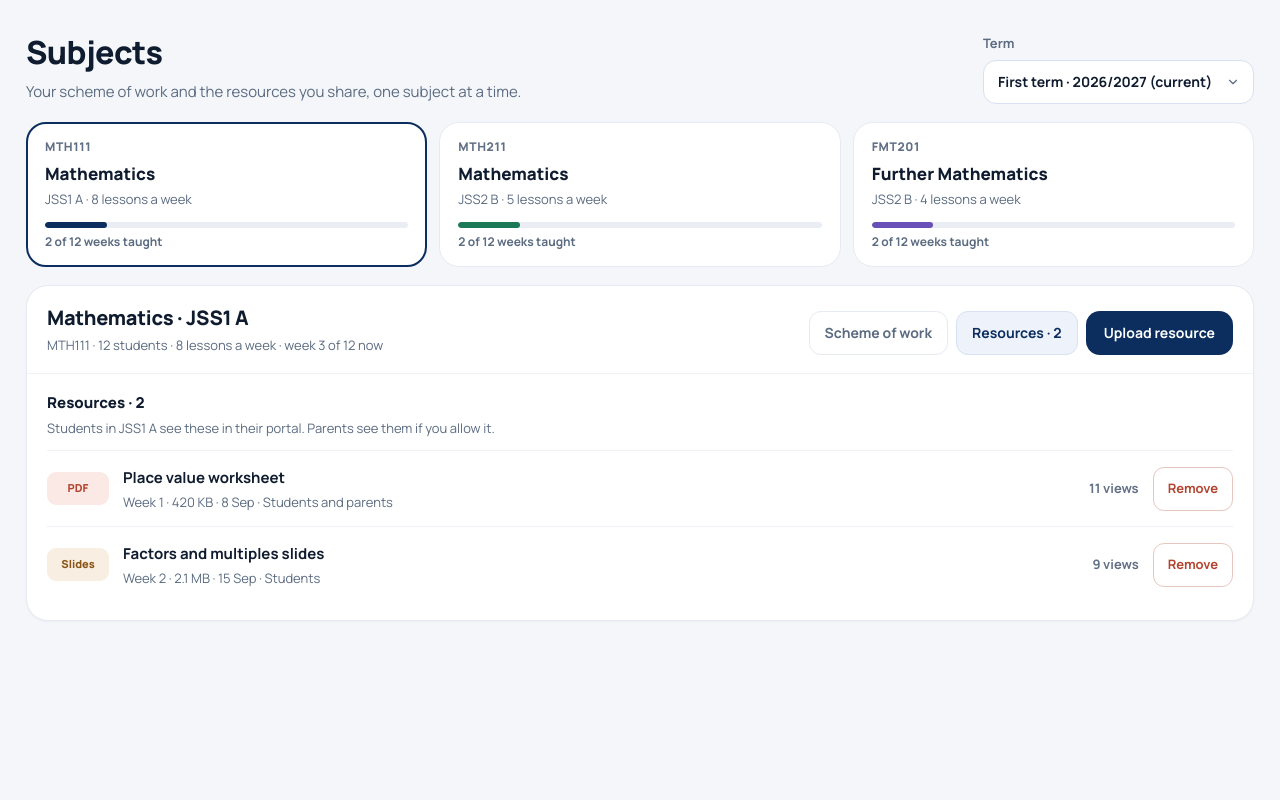
Scenario: SubjectsScreen › removes a resource after the confirmation
The image size is (1280, 800).
Click the button named "Remove Place value worksheet" at [1193, 488], box [1153,466,1233,510]
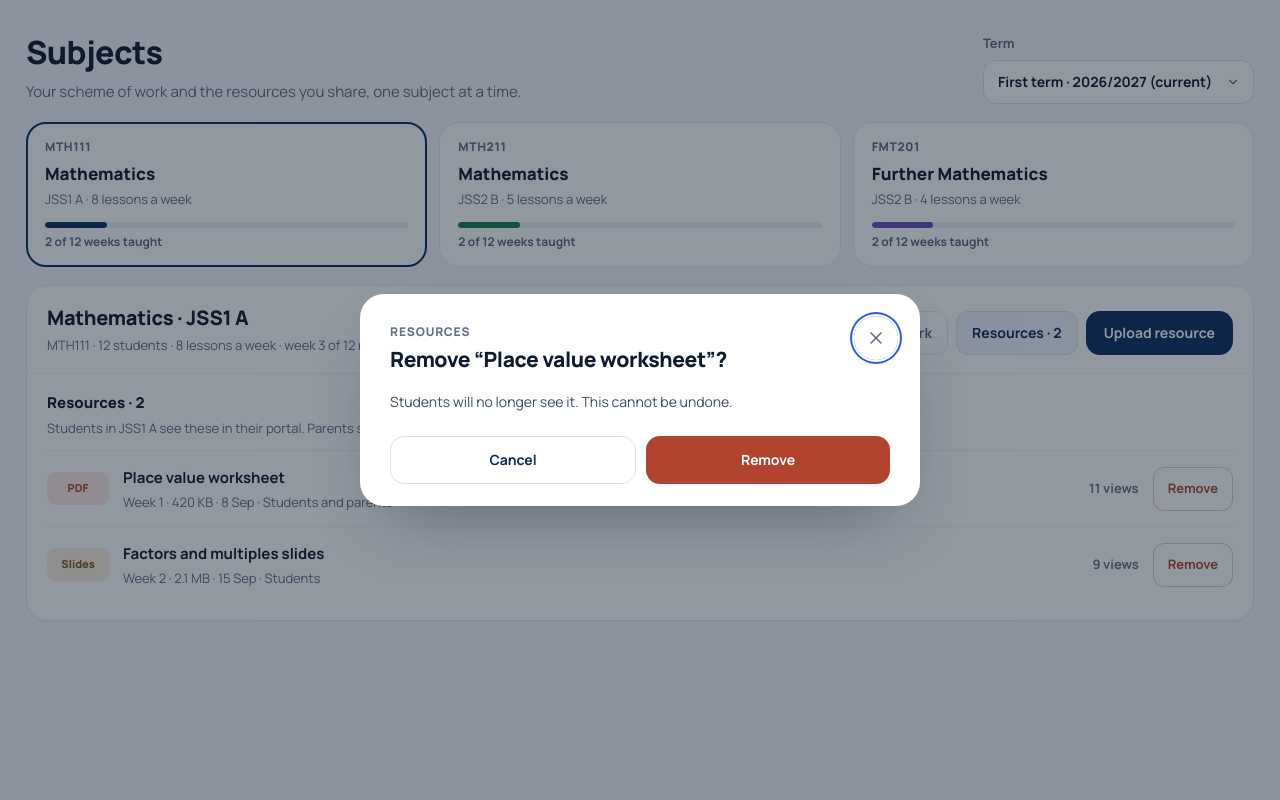
Result: the text "Students will no longer see it. This cannot be undone." is shown at [390,392,732,411]
Click the button "Remove" at [768, 460], box [646,436,890,484]
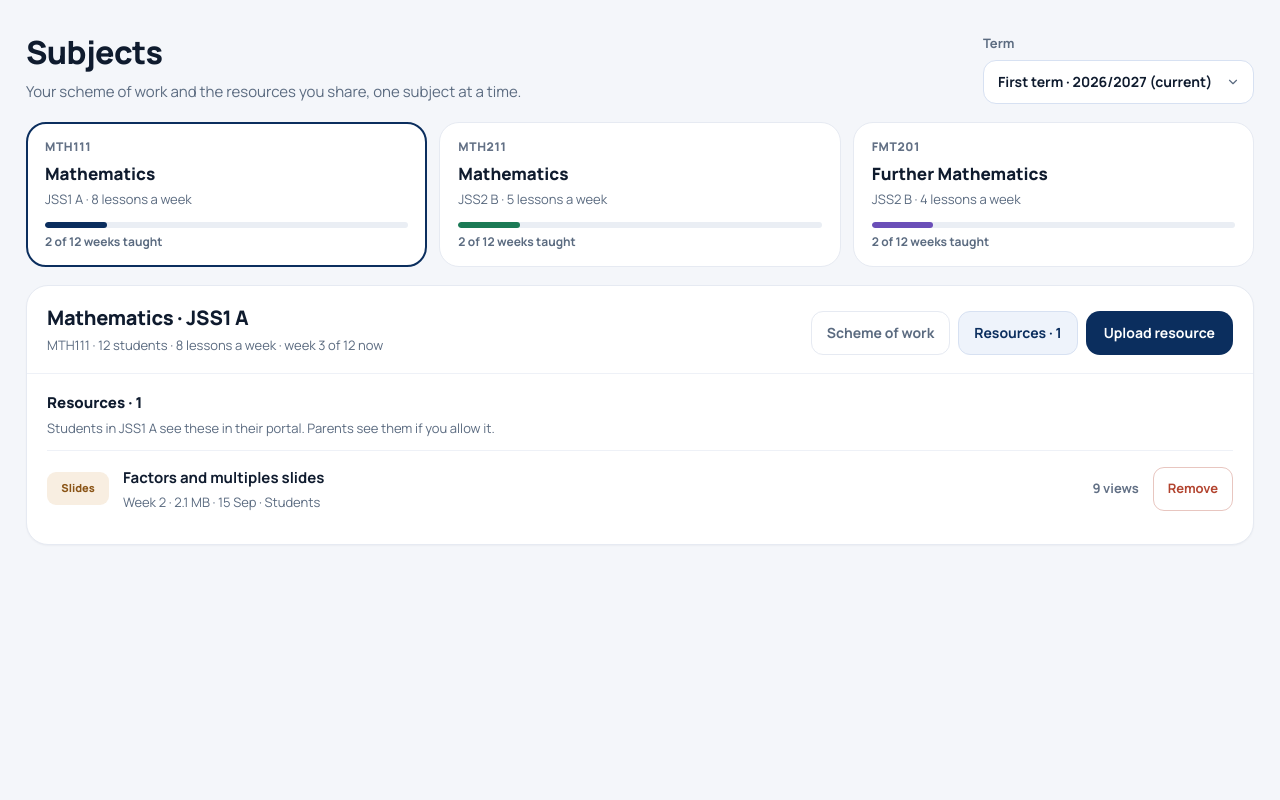
Result: the number of list items is 1 at [47,450,1233,526]
